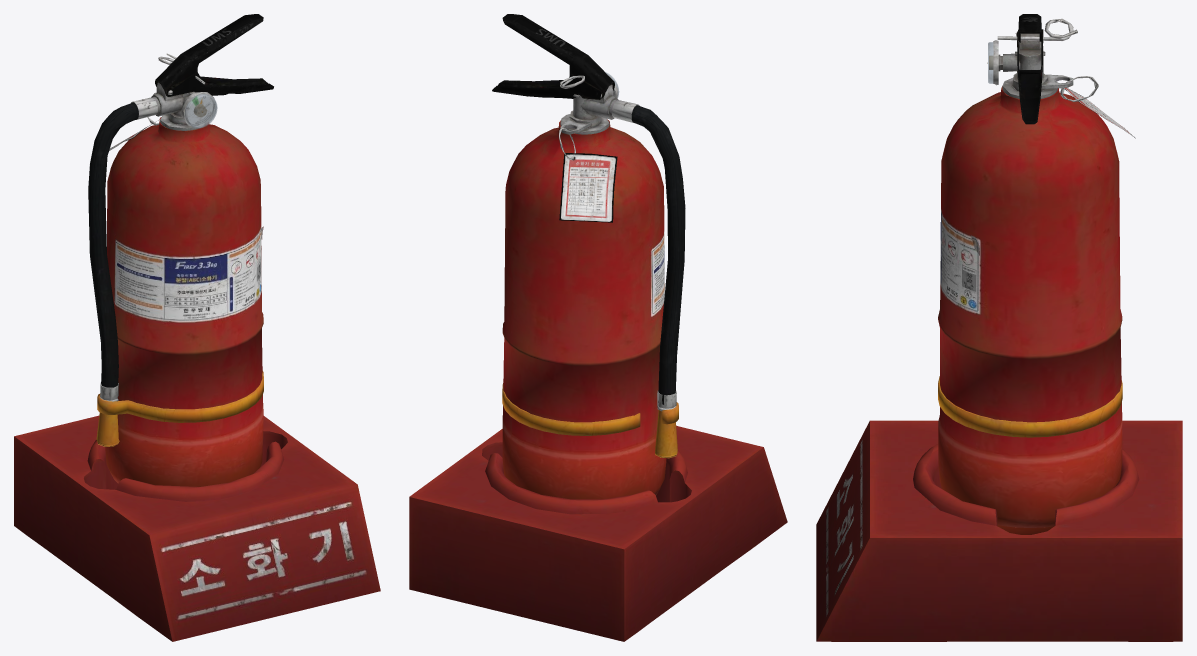
File: korean_fire_extinguisher_01.glb
3 views of the same model, side by side, from view 1: azimuth 30°, elevation 25°; view 2: azimuth 150°, elevation 25°; view 3: azimuth 270°, elevation 25° (orthographic). The views are drawn at different scales.
Parts seen in each view (by area): view 1: korean_fire_extinguisher_01; view 2: korean_fire_extinguisher_01; view 3: korean_fire_extinguisher_01.
Part boxes in pixels (left/top/right/bottom): korean_fire_extinguisher_01: left=14, top=14, right=380, bottom=641; korean_fire_extinguisher_01: left=409, top=14, right=787, bottom=641; korean_fire_extinguisher_01: left=816, top=14, right=1182, bottom=641.
Size of the model in its own units: 0.28 by 0.6581 by 0.3674.
Materials: 3 (3 with a texture image).
